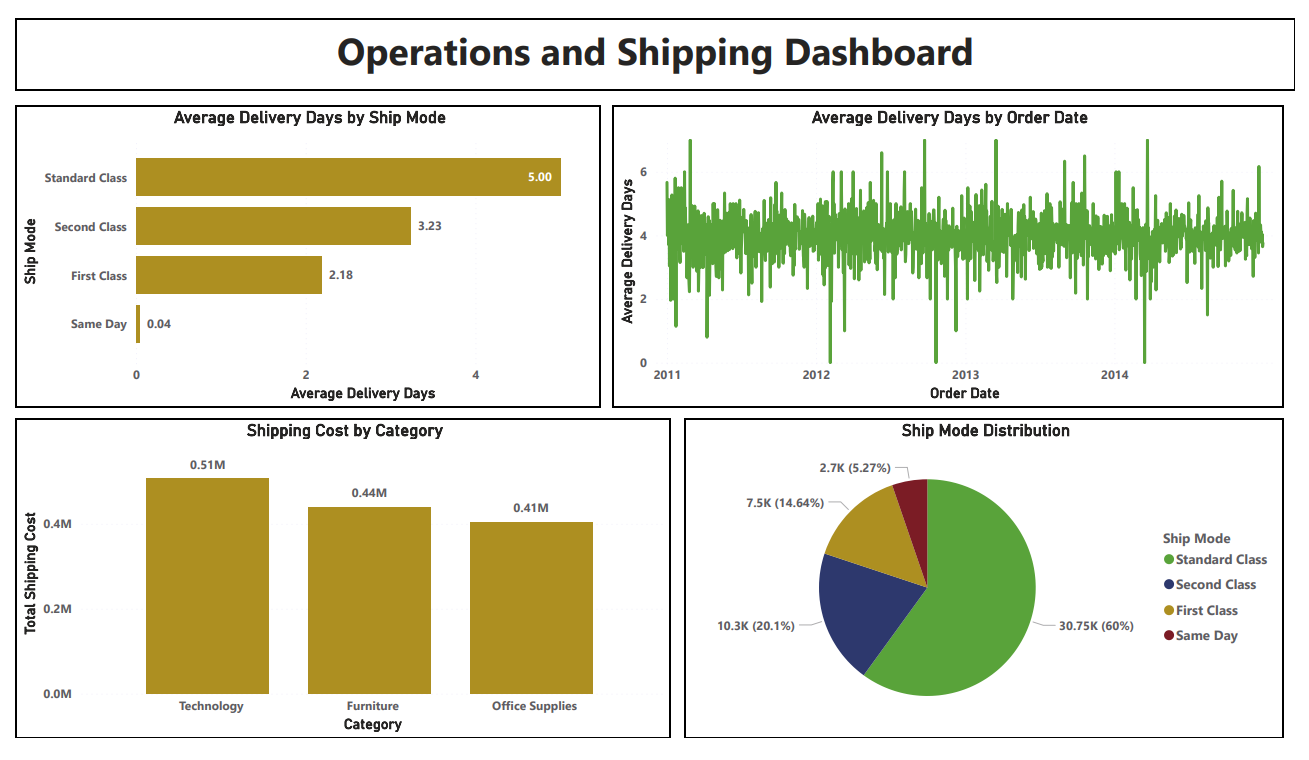

This screenshot's page, from the dashboard's own definition file:
{"tool":"powerbi","page":{"name":"Operations and Shipping","canvas":[1280,720],"ordinal":3},"visuals":[{"type":"textbox","box":[0,0,1280.8,72.9],"z":0},{"type":"barChart","title":"Average Delivery Days by Ship Mode","fields":{"Y":["Avg(Global_Superstore2.Delivery Days)"],"Category":["Global_Superstore2.Ship Mode"]},"box":[0,87.4,586.2,302.8],"z":1000},{"type":"lineChart","title":"Average Delivery Days by Order Date","fields":{"Category":["Global_Superstore2.Order Date"],"Y":["Avg(Global_Superstore2.Delivery Days)"]},"box":[597.5,87.4,672,302.8],"z":2000},{"type":"columnChart","title":"Shipping Cost by Category","fields":{"Category":["Global_Superstore2.Category"],"Y":["Sum(Global_Superstore2.Shipping Cost)"]},"box":[0,399.9,655.8,320.6],"z":3000},{"type":"pieChart","title":"Ship Mode Distribution","fields":{"Category":["Global_Superstore2.Ship Mode"],"Y":["CountNonNull(Global_Superstore2.Order ID)"]},"box":[668.7,399.9,600.7,320.6],"z":4000}]}

Visuals, with their boxes in screenshot pixels (x1, y1, x2, y2):
textbox: pyautogui.locateOnScreen(10, 14, 1302, 87)
"Average Delivery Days by Ship Mode" barChart: pyautogui.locateOnScreen(10, 102, 601, 407)
"Average Delivery Days by Order Date" lineChart: pyautogui.locateOnScreen(613, 102, 1291, 407)
"Shipping Cost by Category" columnChart: pyautogui.locateOnScreen(10, 417, 672, 740)
"Ship Mode Distribution" pieChart: pyautogui.locateOnScreen(685, 417, 1290, 740)
